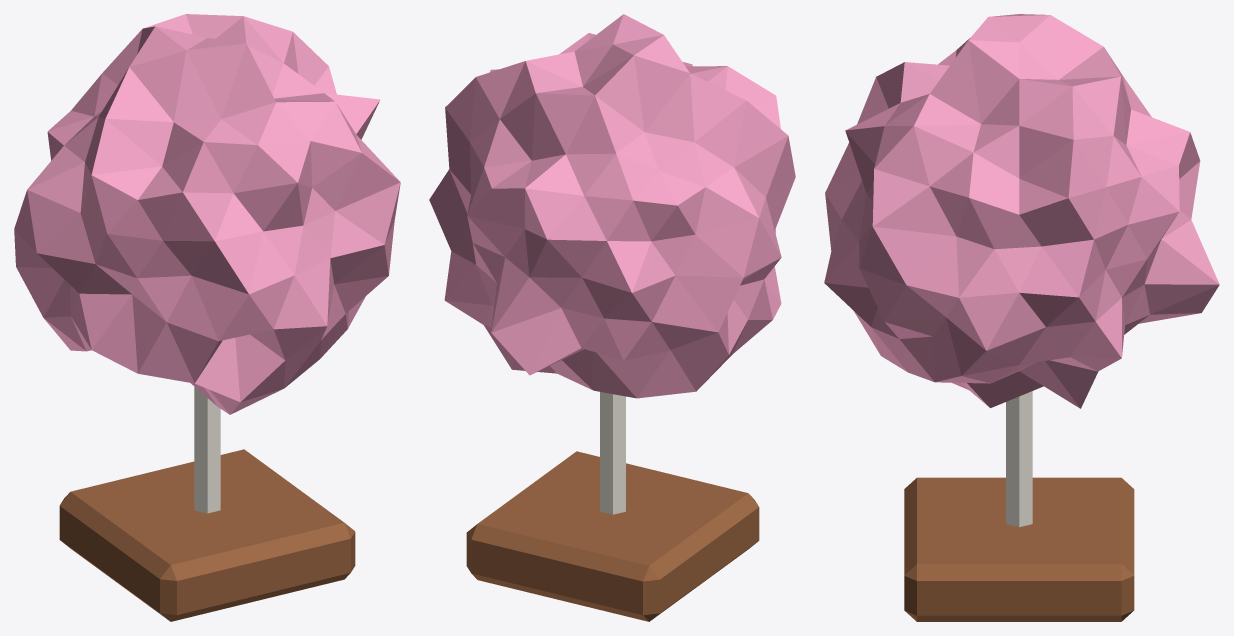
The model's file is algodao_doce.glb.
3 views of the same model, side by side, from view 1: azimuth 30°, elevation 25°; view 2: azimuth 150°, elevation 25°; view 3: azimuth 270°, elevation 25° (orthographic). The views are drawn at different scales.
Parts seen in each view (by area): view 1: algodao_doce; view 2: algodao_doce; view 3: algodao_doce.
Boxes of the visible parts, bbox=[...] form: algodao_doce: bbox=[14, 14, 400, 621]; algodao_doce: bbox=[429, 14, 795, 621]; algodao_doce: bbox=[824, 14, 1219, 621].
Size of the model in its own units: 0.1533 by 0.2355 by 0.1547.
